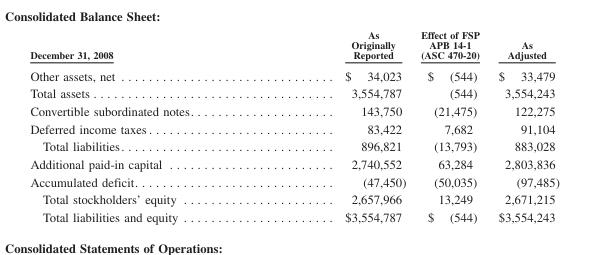table: (29, 28, 558, 223)
table column: (29, 28, 268, 223), (268, 28, 412, 223), (412, 28, 488, 223), (488, 28, 558, 223)
table column header: (29, 28, 558, 64)
table row: (29, 28, 558, 64), (29, 64, 558, 84), (29, 84, 558, 102), (29, 119, 558, 137), (29, 137, 558, 155), (29, 172, 558, 190), (29, 190, 558, 208), (29, 102, 558, 119), (29, 155, 558, 172), (29, 208, 558, 223)
